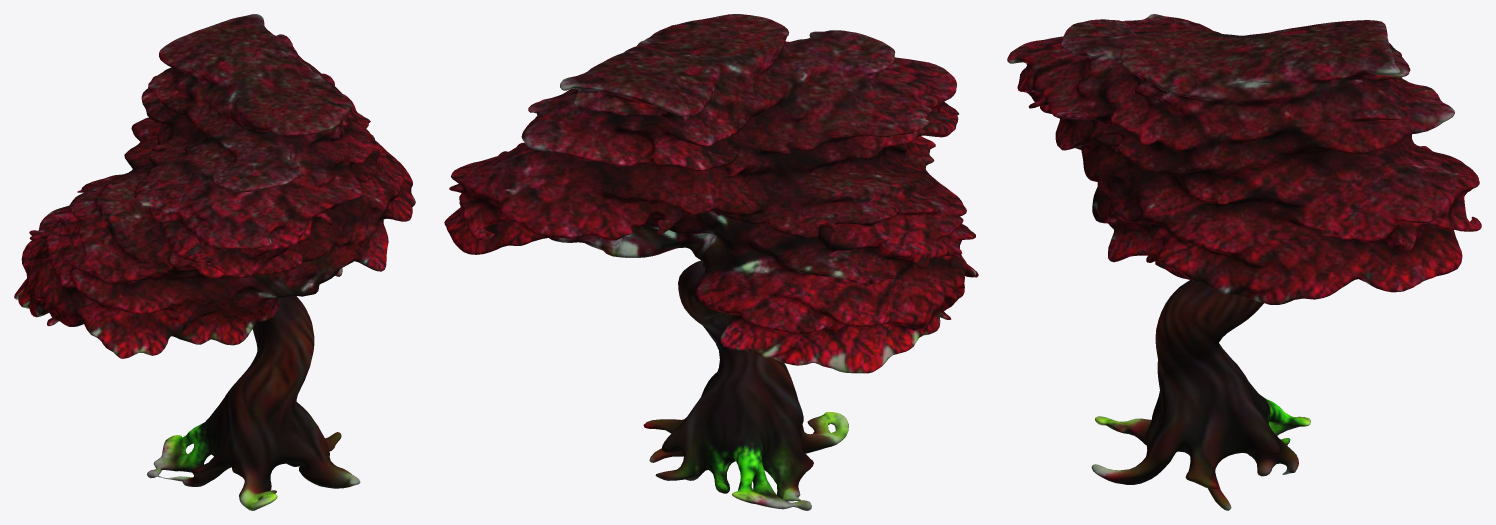
The model's file is red_tree-l2-Bs4sWWp9.glb.
3 renders of one model, left to right at view 1: azimuth 30°, elevation 25°; view 2: azimuth 150°, elevation 25°; view 3: azimuth 270°, elevation 25°, orthographic. The views are drawn at different scales.
Parts seen in each view (by area): view 1: geometry_0; view 2: geometry_0; view 3: geometry_0.
Part boxes in pixels (x1,y1,x2,y2): geometry_0: (14,14,415,510); geometry_0: (444,14,978,510); geometry_0: (1007,14,1481,510).
Size of the model in its own units: 0.5247 by 0.5096 by 0.4878.
Materials: 1 (1 with a texture image).
